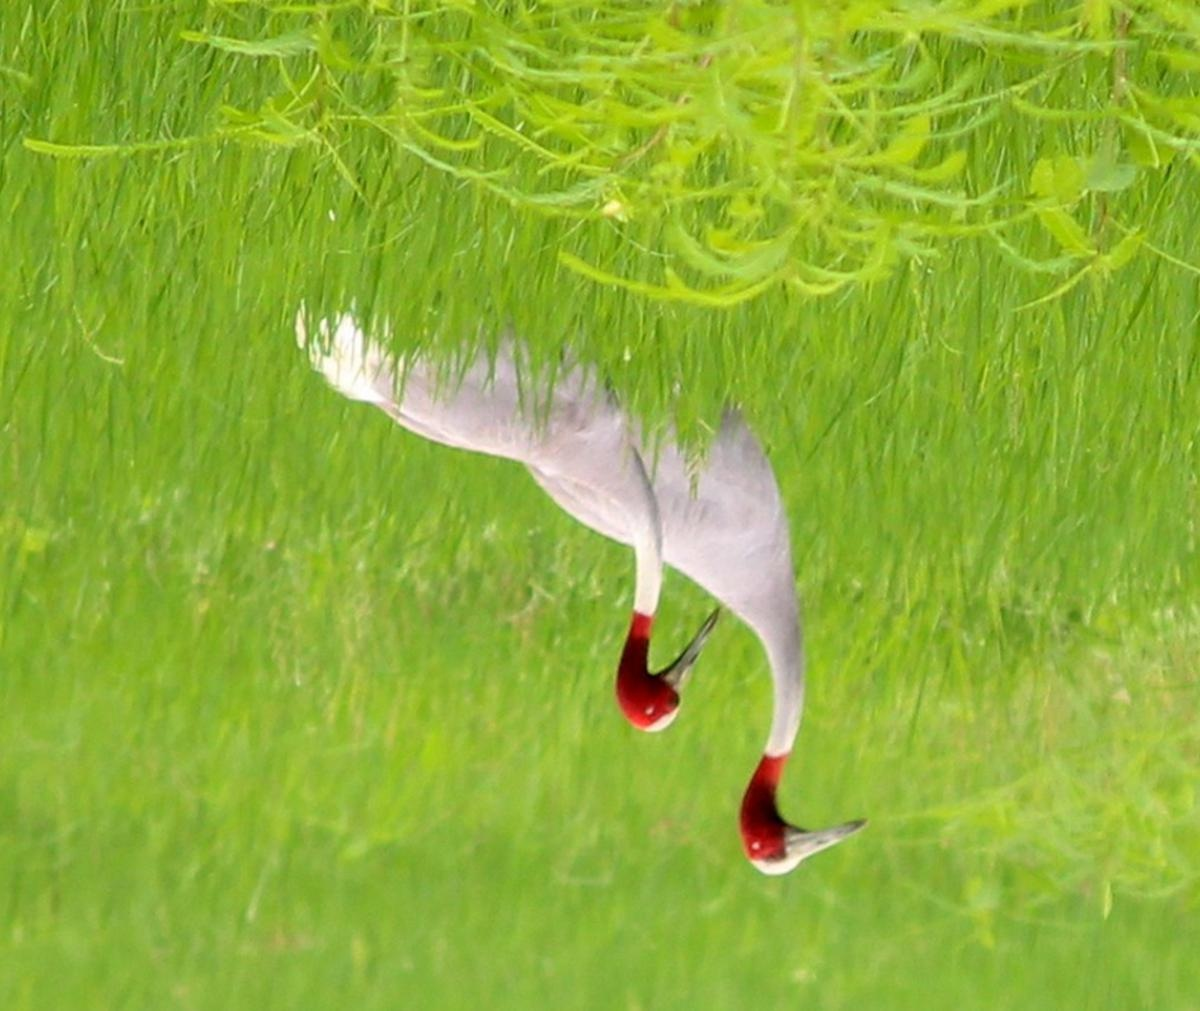crane: (289, 264, 720, 735), (643, 343, 875, 879)
